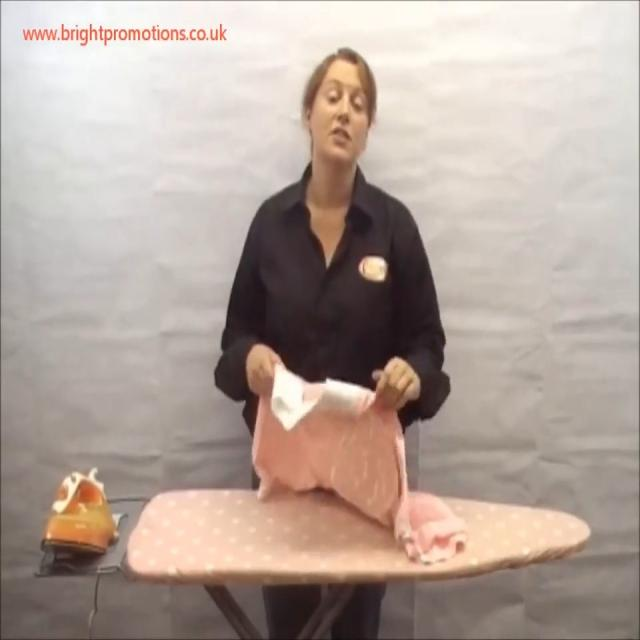Shirt: (214, 156, 452, 444), (251, 360, 467, 564)
